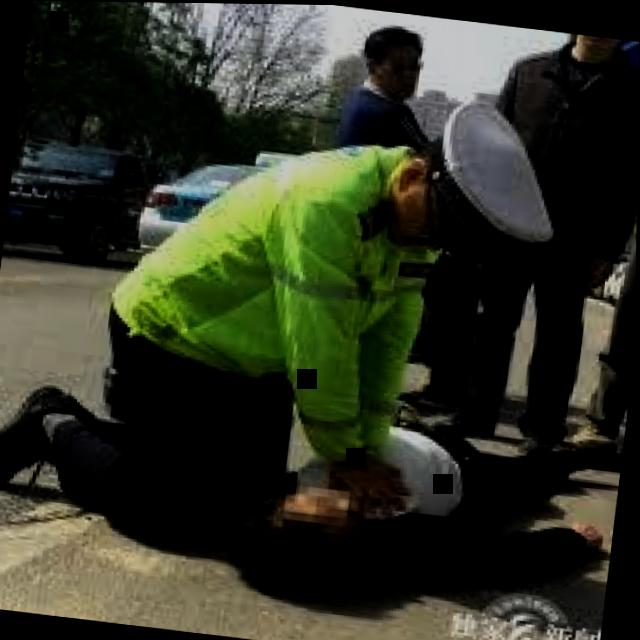Fall-Detected: (216, 363, 626, 628)
